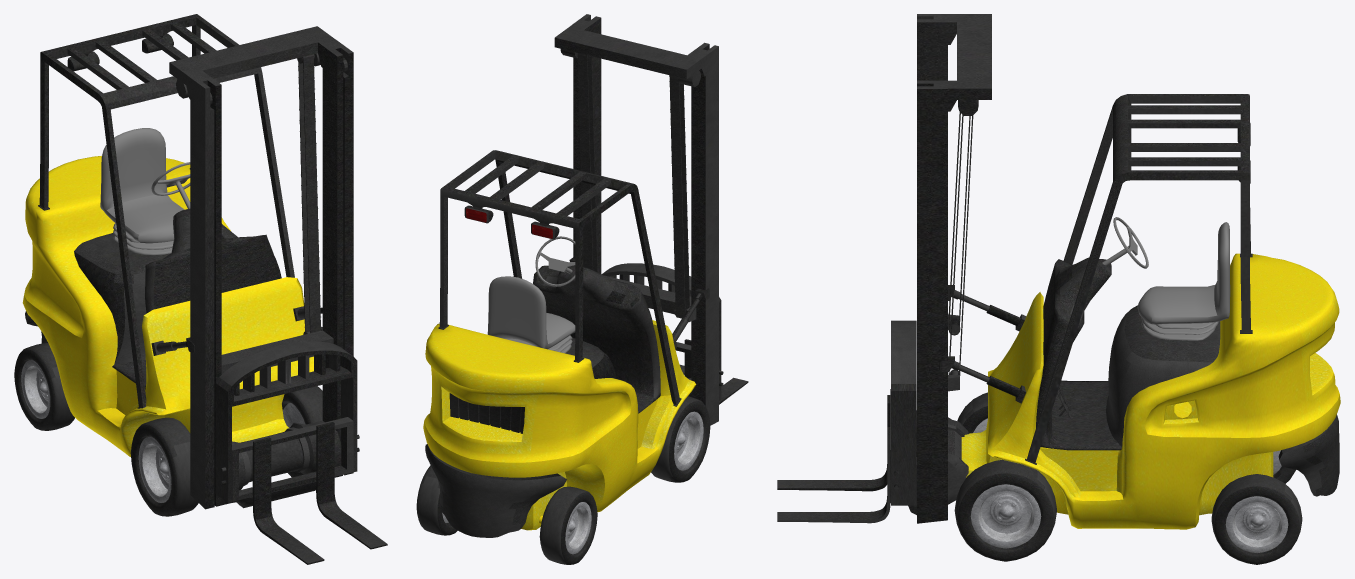
3 renders of one model, left to right at view 1: azimuth 30°, elevation 25°; view 2: azimuth 150°, elevation 25°; view 3: azimuth 270°, elevation 25°, orthographic. The views are drawn at different scales.
Parts seen in each view (by area): view 1: lift, body, fork, frame, interior, seat, wheel_2, lift_cable, wheel_4, wheel_1, steering_wheel; view 2: body, lift, frame, interior, body_additional, lift_cable, seat, wheel_4, wheel_2, fork, wheel_3, steering_wheel; view 3: body, lift, frame, interior, wheel_1, fork, wheel_3, seat, body_additional, lift_cable, wheel_2, steering_wheel.
Part boxes in pixels (box(x1,y1,x2,y2)): lift: box(151, 26, 353, 509); body: box(22, 156, 313, 456); fork: box(215, 341, 387, 564); frame: box(38, 14, 294, 408); interior: box(74, 209, 281, 389); seat: box(100, 128, 184, 255); wheel_2: box(130, 417, 198, 516); lift_cable: box(298, 54, 320, 333); wheel_4: box(14, 343, 74, 430); wheel_1: box(282, 386, 322, 477); steering_wheel: box(151, 162, 190, 208); body: box(423, 320, 696, 530); lift: box(554, 14, 718, 425); frame: box(438, 150, 681, 406); interior: box(533, 265, 660, 413); body_additional: box(425, 393, 566, 537); lift_cable: box(577, 53, 689, 318); seat: box(487, 276, 575, 353); wheel_4: box(539, 486, 597, 564); wheel_2: box(651, 396, 710, 482); fork: box(601, 263, 748, 404); wheel_3: box(416, 465, 457, 535); steering_wheel: box(535, 236, 575, 286); body: box(961, 253, 1340, 529); lift: box(908, 14, 1026, 523); frame: box(1025, 94, 1252, 464); interior: box(1036, 257, 1220, 450); wheel_1: box(954, 459, 1056, 561); fork: box(777, 320, 916, 523); wheel_3: box(1211, 474, 1302, 564); seat: box(1137, 222, 1230, 340); body_additional: box(1278, 414, 1339, 496); lift_cable: box(948, 112, 973, 374); wheel_2: box(957, 392, 987, 433); steering_wheel: box(1102, 217, 1148, 268).
Bounding box in the file's own units: 19.33 × 48.74 × 52.4.
